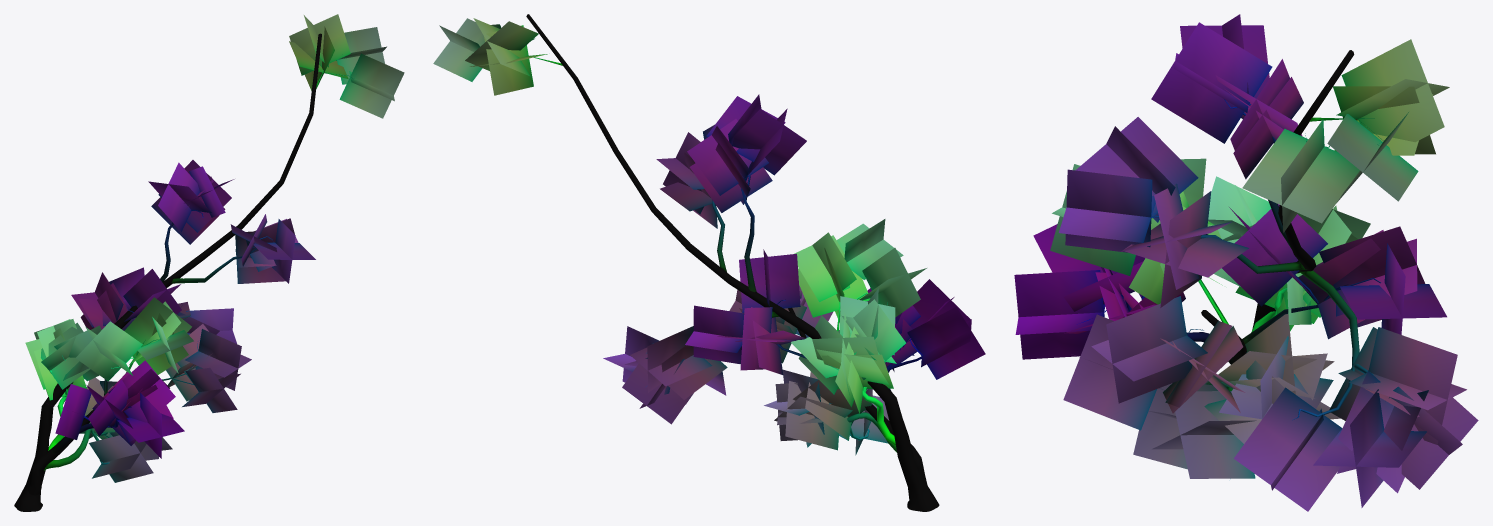
Rendered from URP_P5_Tree_12_LOD_0.fbx.
3 renders of one model, left to right at view 1: azimuth 30°, elevation 25°; view 2: azimuth 150°, elevation 25°; view 3: azimuth 270°, elevation 25°, orthographic. The views are drawn at different scales.
Parts seen in each view (by area): view 1: Tree_12_LOD_0; view 2: Tree_12_LOD_0; view 3: Tree_12_LOD_0.
Boxes of the visible parts, bbox=[...] form: Tree_12_LOD_0: bbox=[14, 14, 404, 511]; Tree_12_LOD_0: bbox=[433, 14, 985, 511]; Tree_12_LOD_0: bbox=[1014, 14, 1478, 511].
Bounding box in the file's own units: 744 × 669 × 416.
